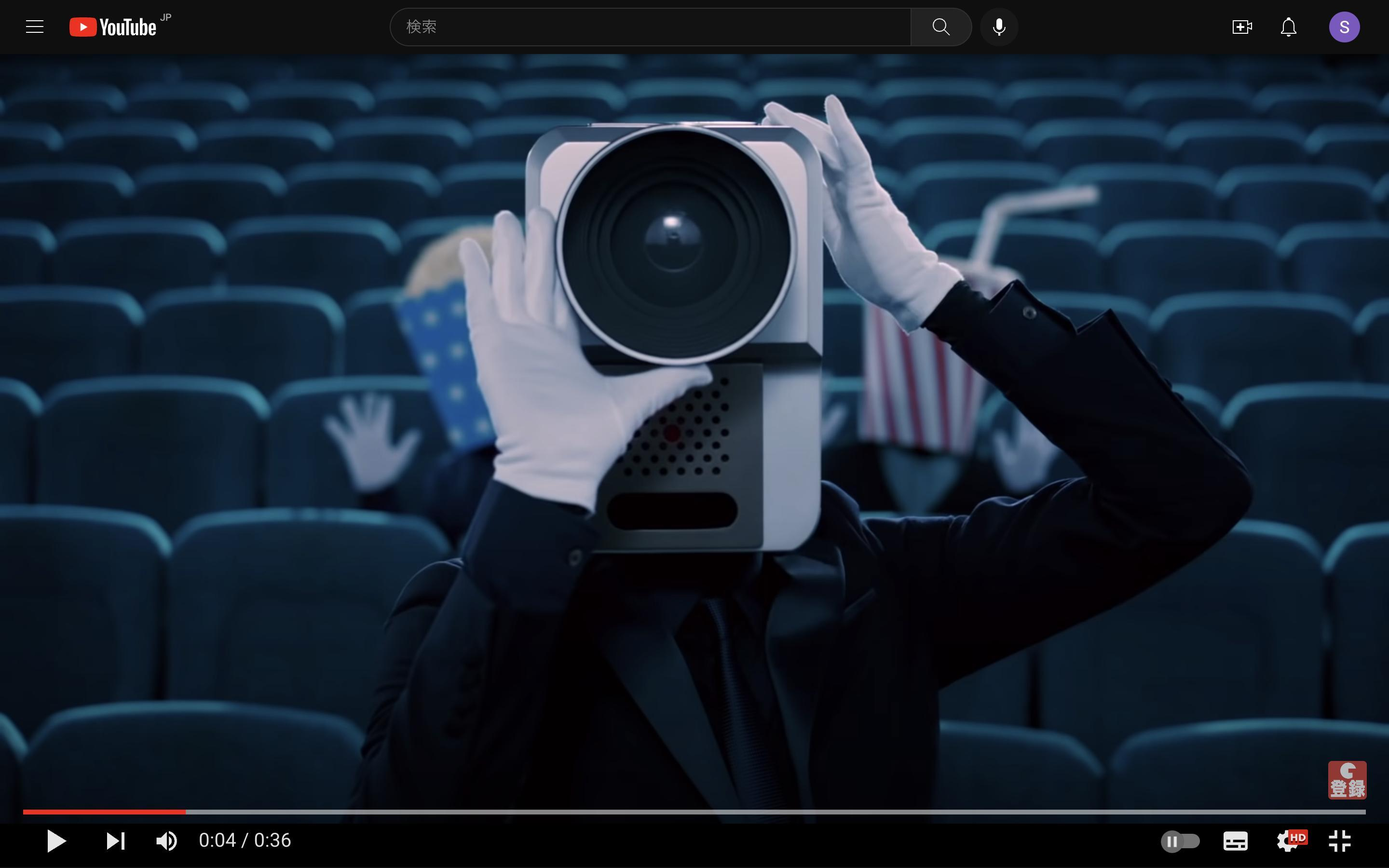no more kid: (511, 88, 873, 587)
